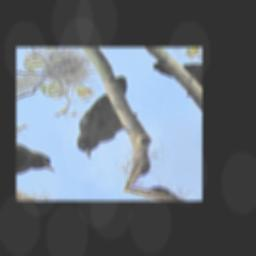Crow: (46, 74, 164, 160)
